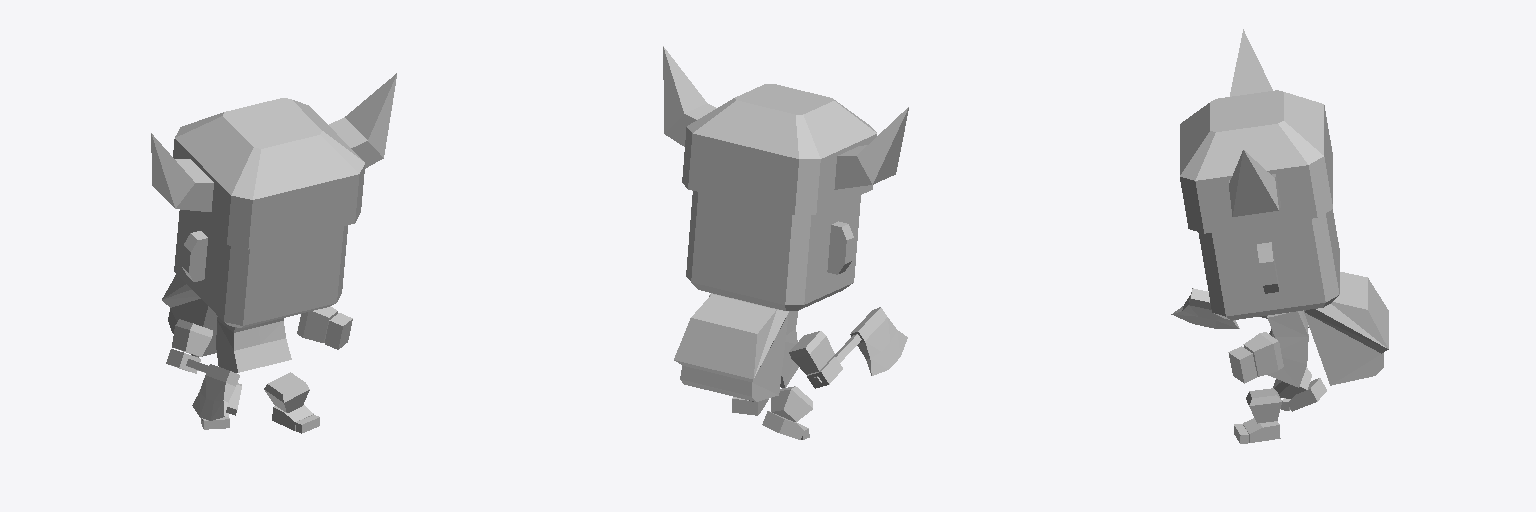
Rendered from mini_knight_000021.obj.
The picture shows the model from 3 angles: view 1: azimuth 30°, elevation 25°; view 2: azimuth 150°, elevation 25°; view 3: azimuth 270°, elevation 25°; orthographic projection.
Parts seen in each view (by area): view 1: cap_Object01_Material__3, Mesh_objheadusOBJexport_Material, back_Object03_Material__3, axe_Object02_Material__3; view 2: cap_Object01_Material__3, Mesh_objheadusOBJexport_Material, back_Object03_Material__3, axe_Object02_Material__3; view 3: cap_Object01_Material__3, Mesh_objheadusOBJexport_Material, back_Object03_Material__3, axe_Object02_Material__3.
Boxes of the visible parts, box(x1,y1,x2,y2) form: cap_Object01_Material__3: box(151, 73, 396, 249); Mesh_objheadusOBJexport_Material: box(166, 210, 352, 433); back_Object03_Material__3: box(162, 274, 217, 357); axe_Object02_Material__3: box(186, 359, 239, 420); cap_Object01_Material__3: box(663, 46, 908, 214); Mesh_objheadusOBJexport_Material: box(686, 191, 860, 439); back_Object03_Material__3: box(674, 293, 788, 401); axe_Object02_Material__3: box(812, 307, 907, 384); cap_Object01_Material__3: box(1180, 29, 1332, 233); Mesh_objheadusOBJexport_Material: box(1198, 209, 1339, 443); back_Object03_Material__3: box(1304, 272, 1388, 385); axe_Object02_Material__3: box(1171, 288, 1267, 328).
Size of the model in its own units: 1.94 by 2.51 by 1.48.